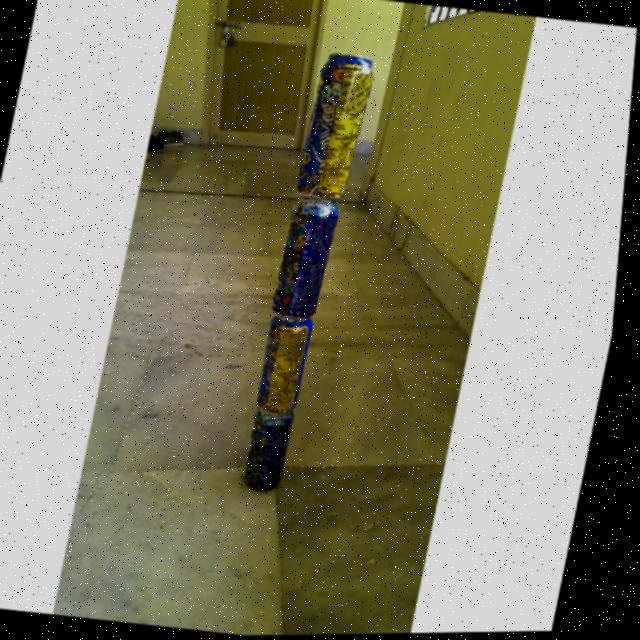Monster Aussie Lemonade: (273, 194, 341, 320), (248, 407, 299, 494)
Monster Mango Loco: (295, 54, 376, 203), (261, 318, 318, 414)
